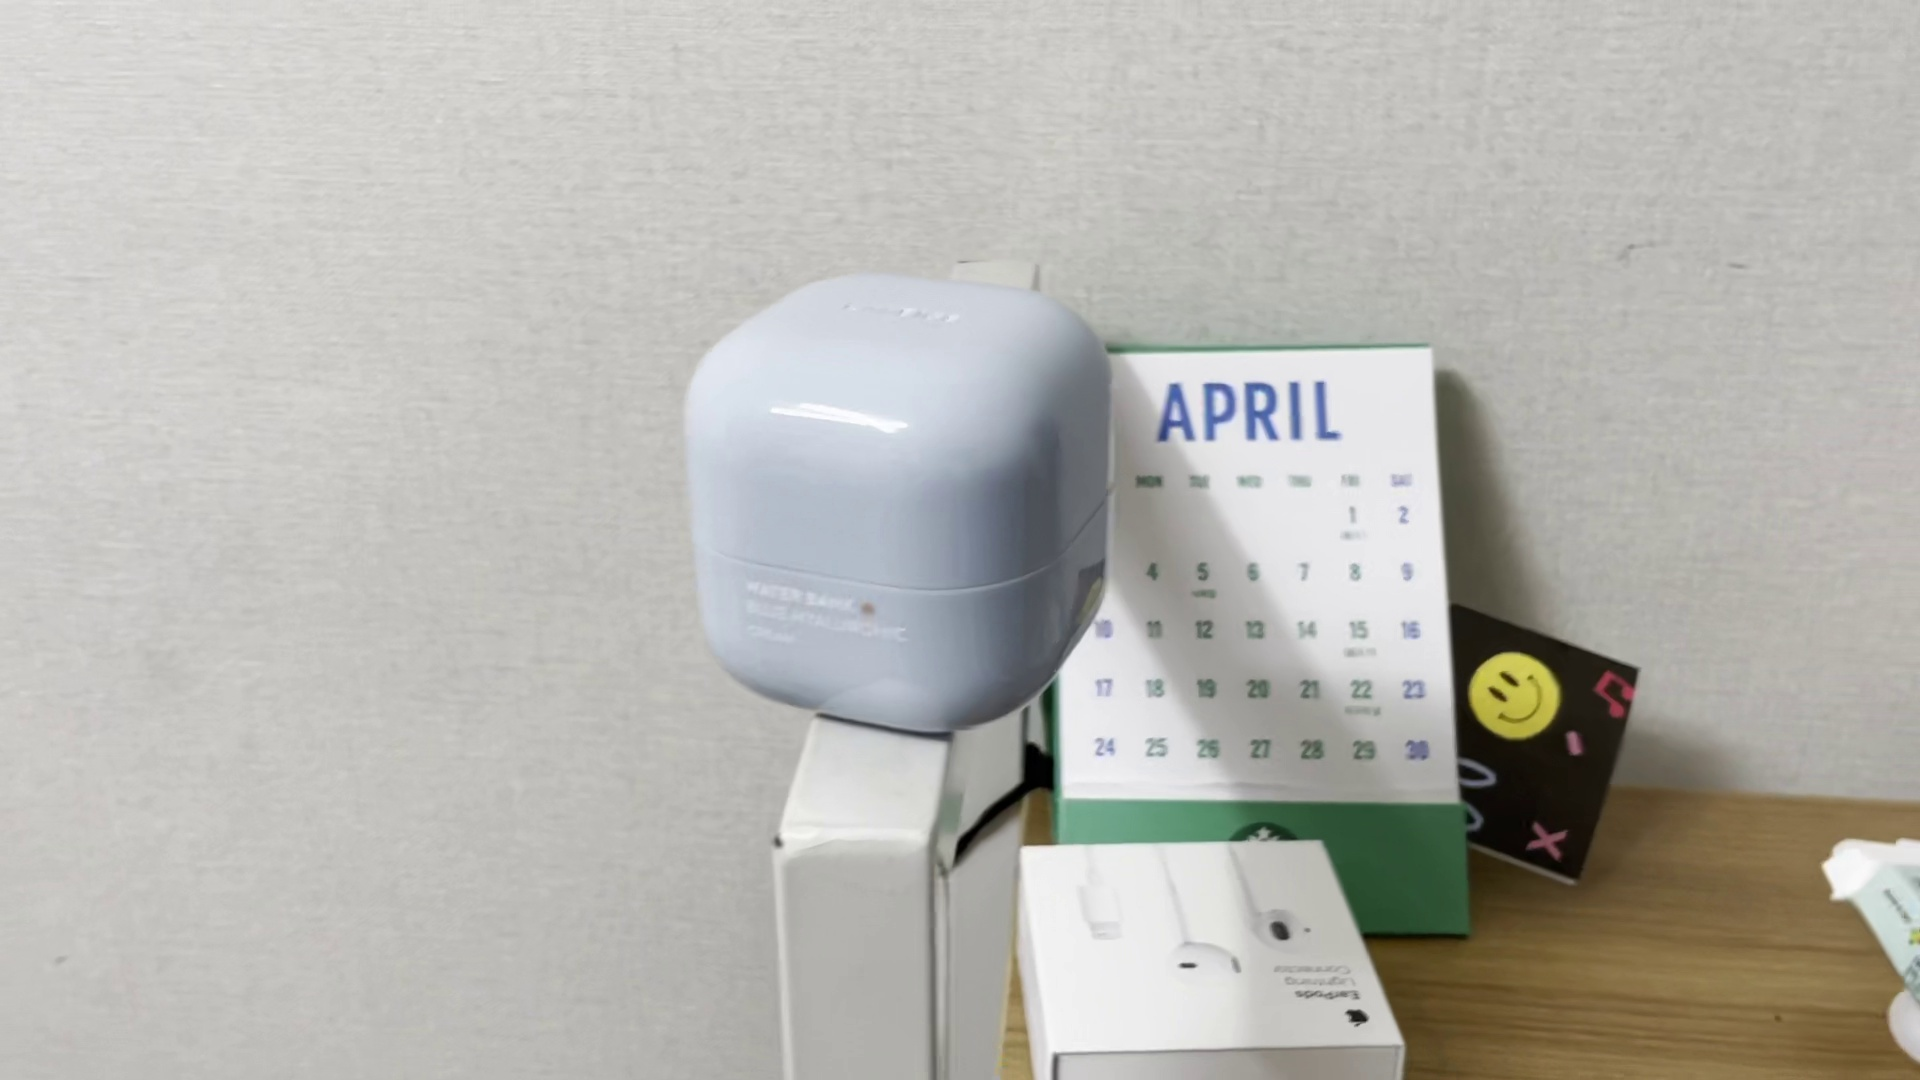cream: (694, 268, 1120, 735)
